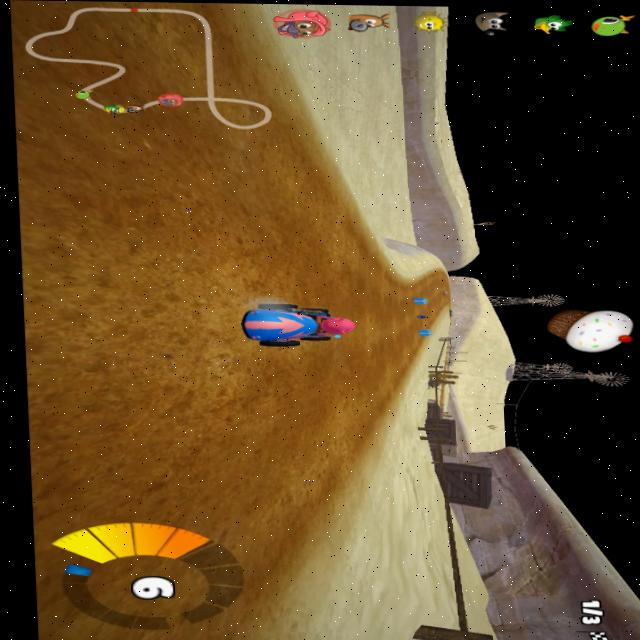bonus: (411, 295, 430, 307), (417, 329, 435, 337)
nitro: (417, 313, 431, 320)
player_kart: (237, 300, 351, 353)
track: (21, 183, 210, 640), (2, 2, 244, 185), (218, 355, 357, 513), (189, 186, 354, 298), (205, 512, 301, 594), (357, 284, 410, 395), (196, 301, 246, 360), (350, 249, 382, 285), (364, 401, 392, 422), (434, 271, 446, 317), (439, 281, 448, 308), (410, 282, 430, 293)
